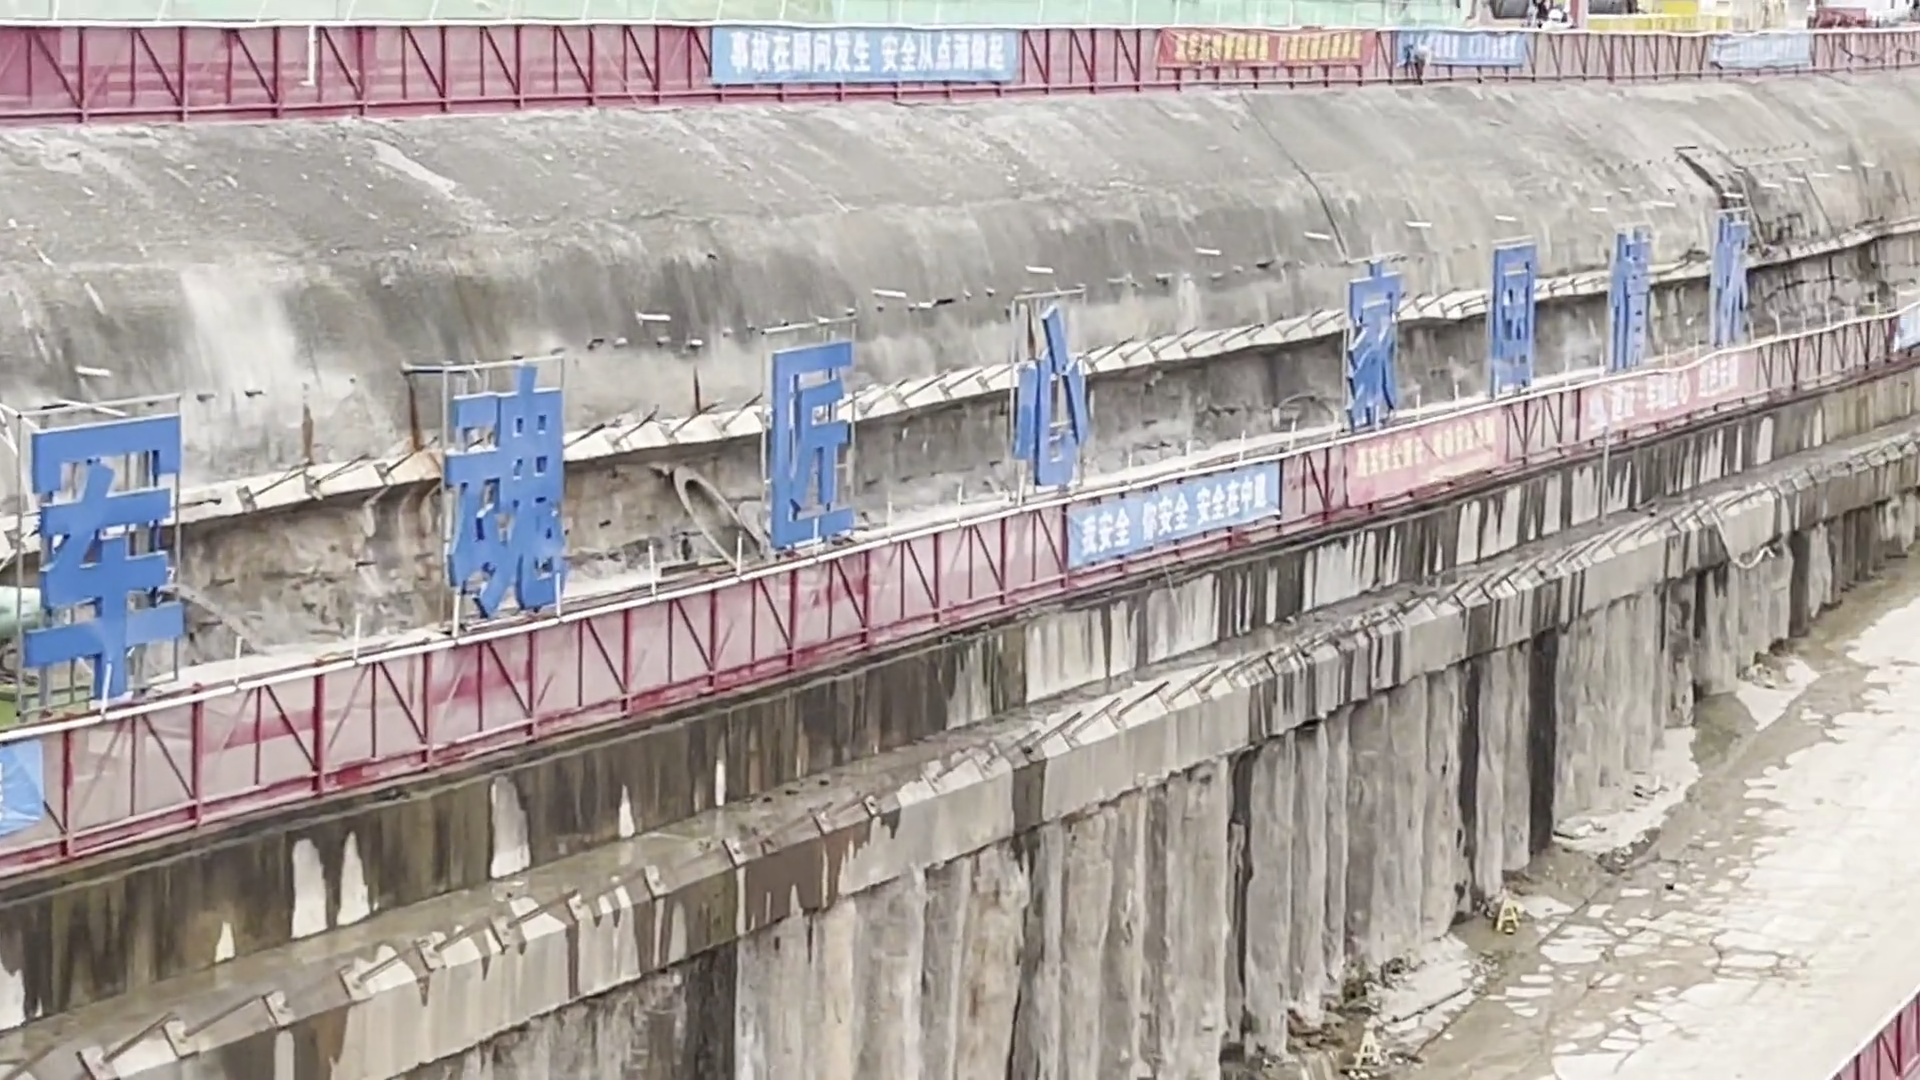fence: (7, 277, 1920, 804), (1, 22, 1920, 125)
slogan: (713, 18, 1023, 94), (1073, 488, 1323, 564), (1149, 17, 1377, 92), (1575, 357, 1785, 438), (1335, 423, 1524, 491), (1393, 26, 1547, 102), (1720, 37, 1834, 73)
